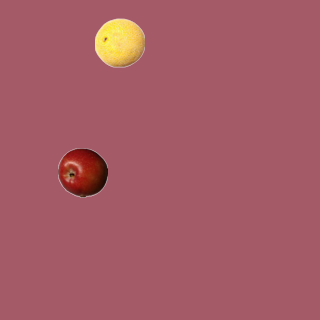Apple Braeburn: (57, 147, 107, 197)
Cantaloupe 1: (94, 17, 144, 67)
